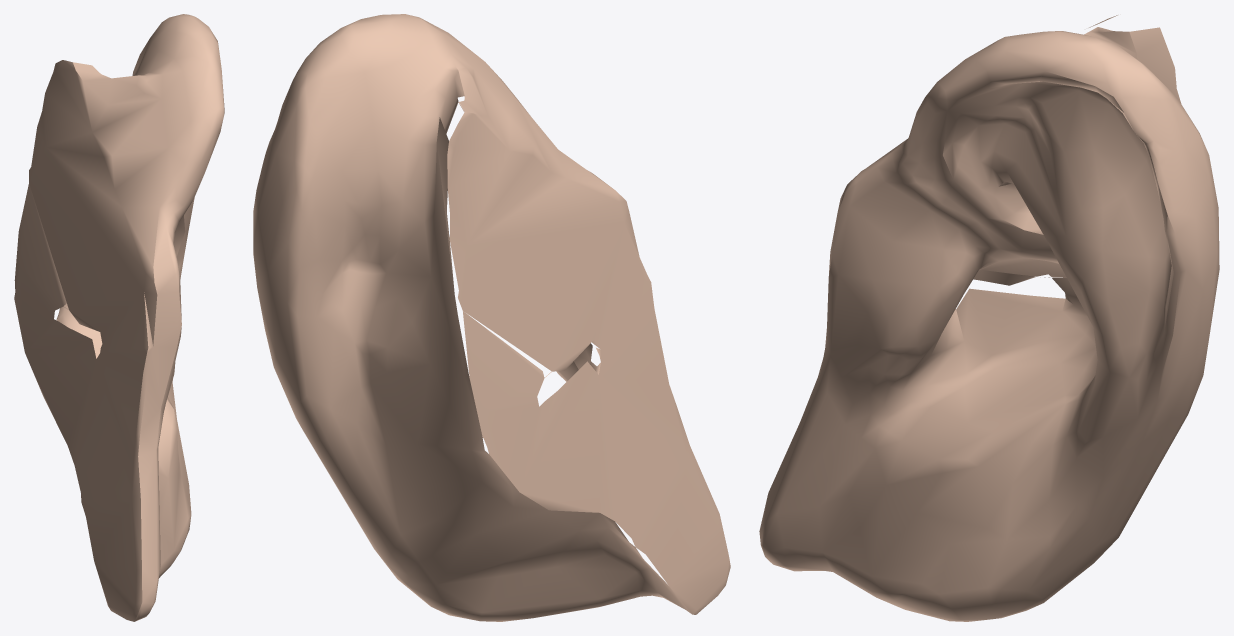
Rendered from ear.glb.
3 views of the same model, side by side, from view 1: azimuth 30°, elevation 25°; view 2: azimuth 150°, elevation 25°; view 3: azimuth 270°, elevation 25° (orthographic). The views are drawn at different scales.
Parts seen in each view (by area): view 1: Ear; view 2: Ear; view 3: Ear.
Boxes of the visible parts, bbox=[...] form: Ear: bbox=[14, 14, 224, 621]; Ear: bbox=[253, 14, 730, 621]; Ear: bbox=[759, 15, 1219, 621].
Size of the model in its own units: 26.52 by 56.98 by 37.16.
